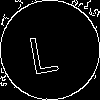L: (25, 25, 60, 75)
